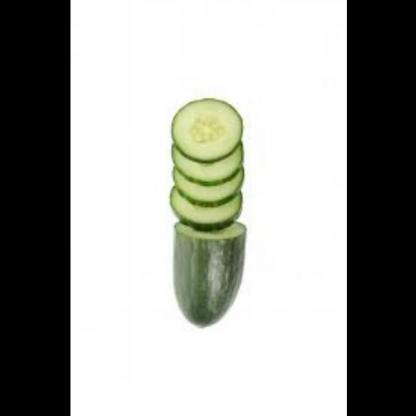cucumber: (169, 216, 252, 341), (166, 104, 249, 223)
